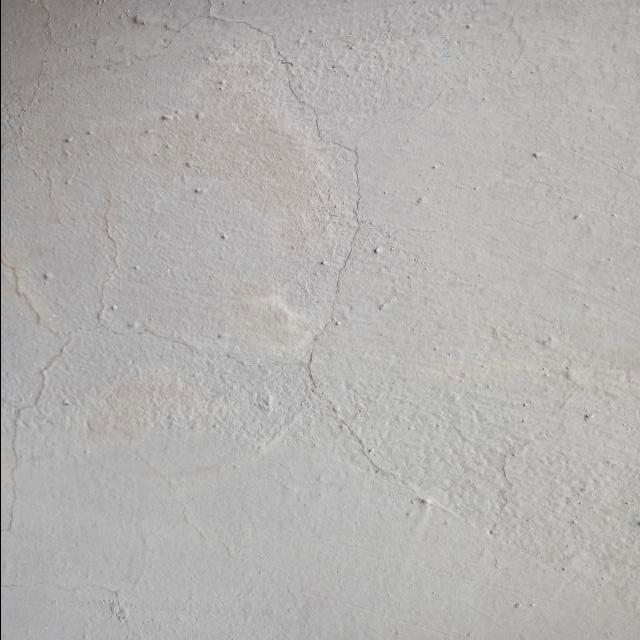SurfaceCrack: (220, 0, 434, 636)
